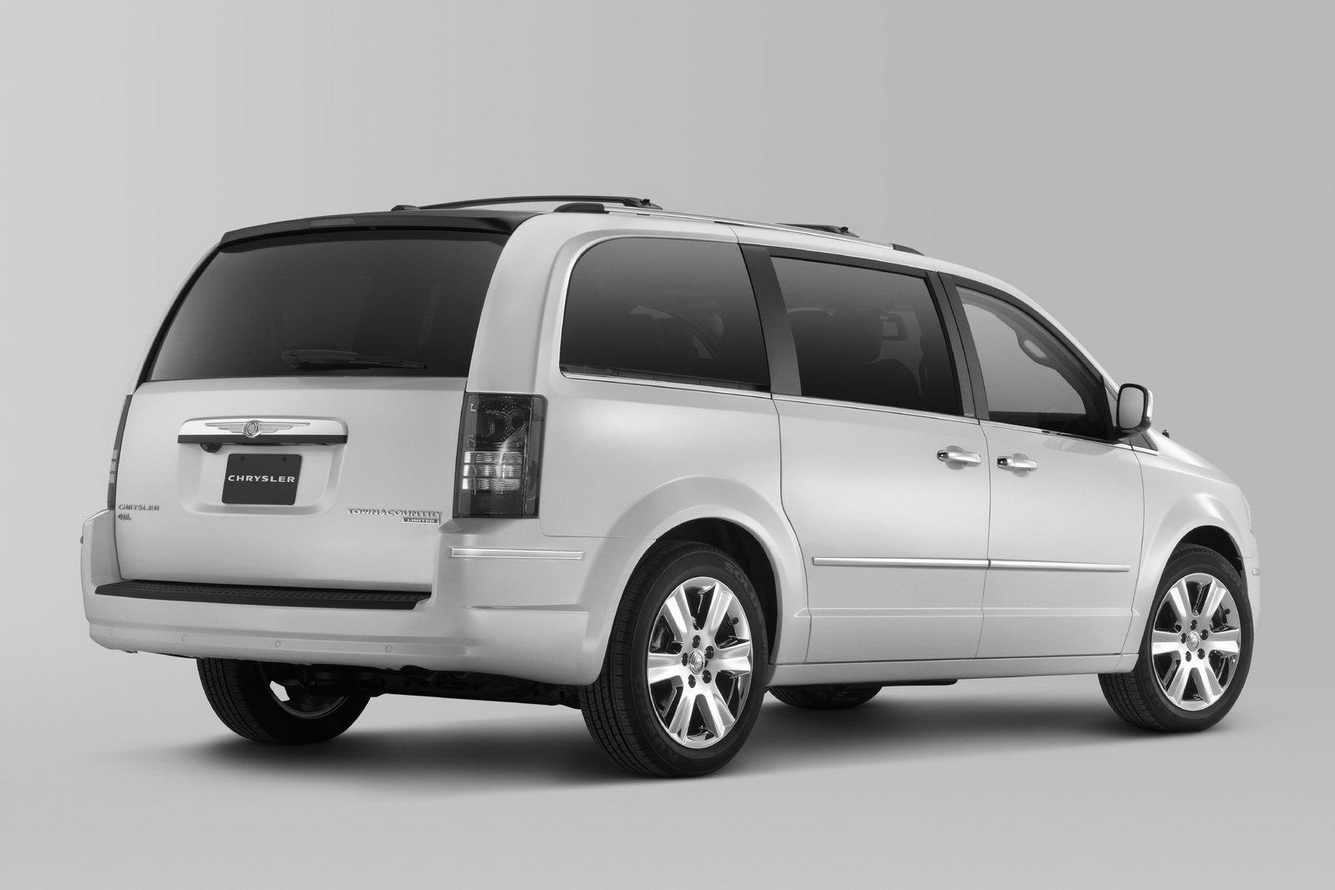car: (73, 187, 1269, 772)
